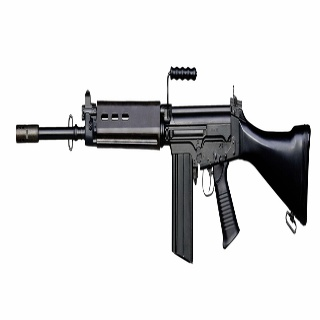rifle: (13, 63, 310, 267)
